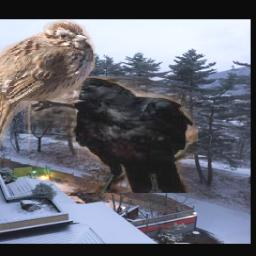Crow: (25, 77, 199, 194)
Sparrow: (0, 21, 95, 160)
